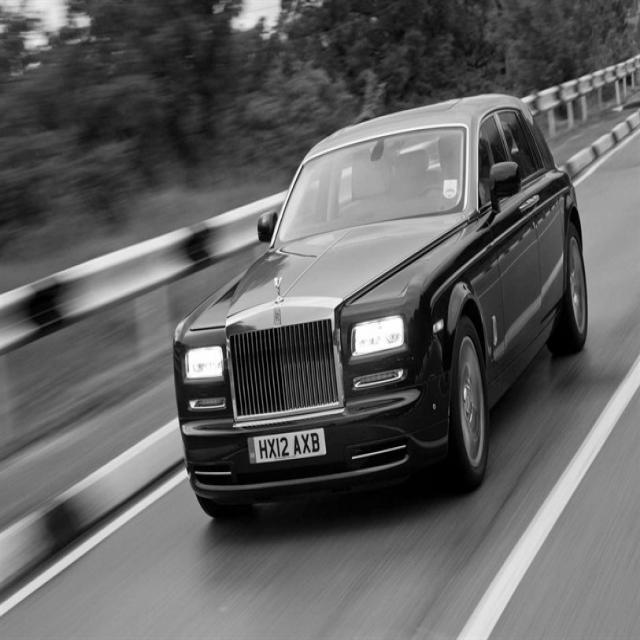car: (172, 91, 588, 519)
plat_license: (246, 426, 327, 465)
